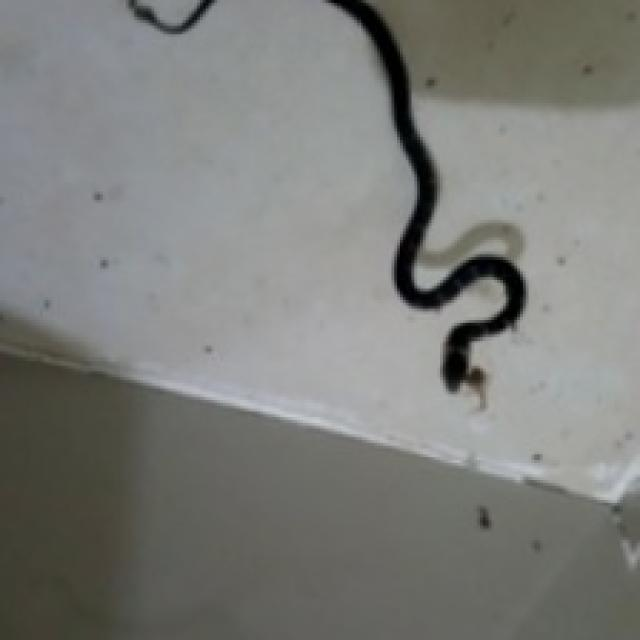gunthers philippine shrub snake: (329, 0, 523, 389)
